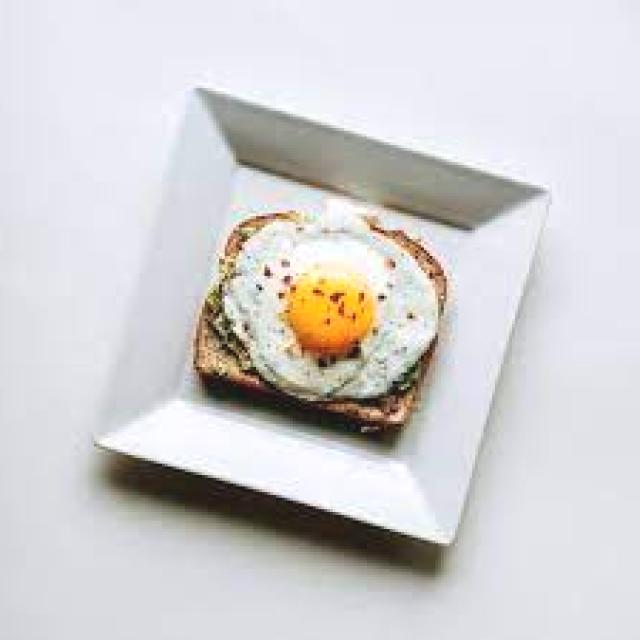telur ceplok: (217, 222, 438, 398)
